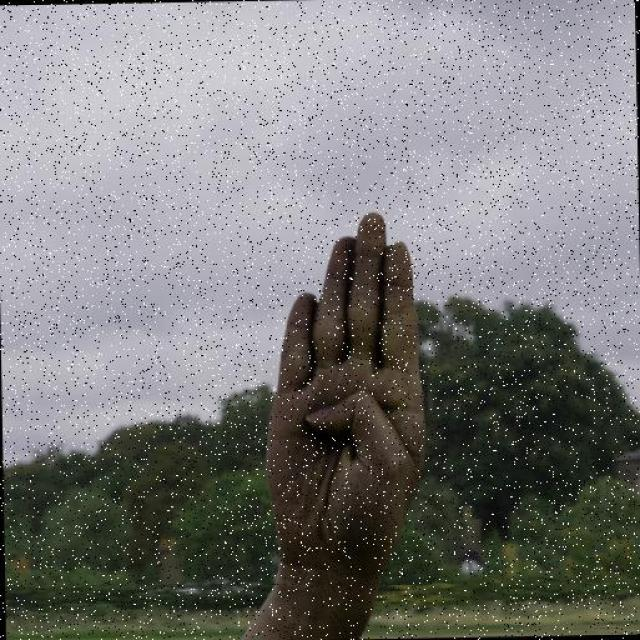B: (249, 207, 428, 592)
